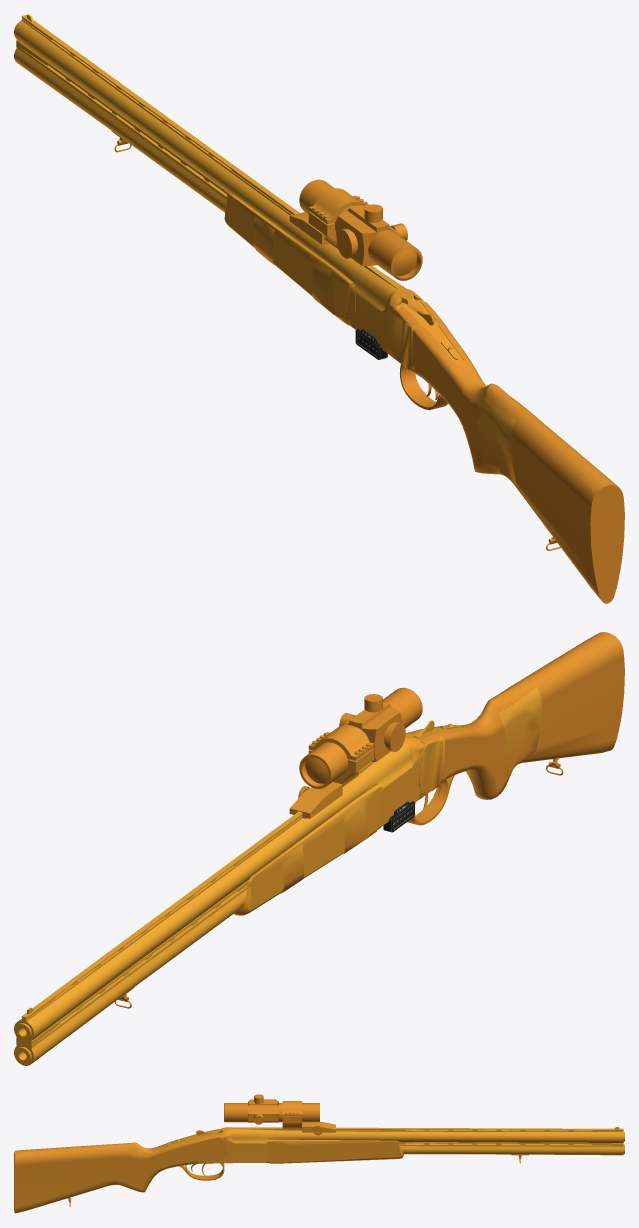
File: mallard.glb
3 views of the same model, one above another, from view 1: azimuth 30°, elevation 25°; view 2: azimuth 150°, elevation 25°; view 3: azimuth 270°, elevation 25° (orthographic). The views are drawn at different scales.
Visible parts, largest first — view 1: Handle1, Lod_Template.001, Sticker4, Sticker3, Sticker2; view 2: Handle1, Lod_Template.001, Sticker4, Sticker3, Sticker2, Sticker1; view 3: Handle1, Lod_Template.001.
Boxes of the visible parts, x1,y1,x2,y2 form: Handle1: (14,14,422,327); Lod_Template.001: (349,287,624,603); Sticker4: (477,394,516,484); Sticker3: (387,310,416,371); Sticker2: (312,259,334,314); Handle1: (14,687,422,1065); Lod_Template.001: (381,632,624,826); Sticker4: (499,687,542,778); Sticker3: (419,736,444,799); Sticker2: (343,798,367,853); Sticker1: (281,844,304,893); Handle1: (224,1094,624,1163); Lod_Template.001: (14,1127,267,1213).
Bounding box in the file's own units: 0.0536 × 0.197 × 0.9336.
Materials: 6 (6 with a texture image).
